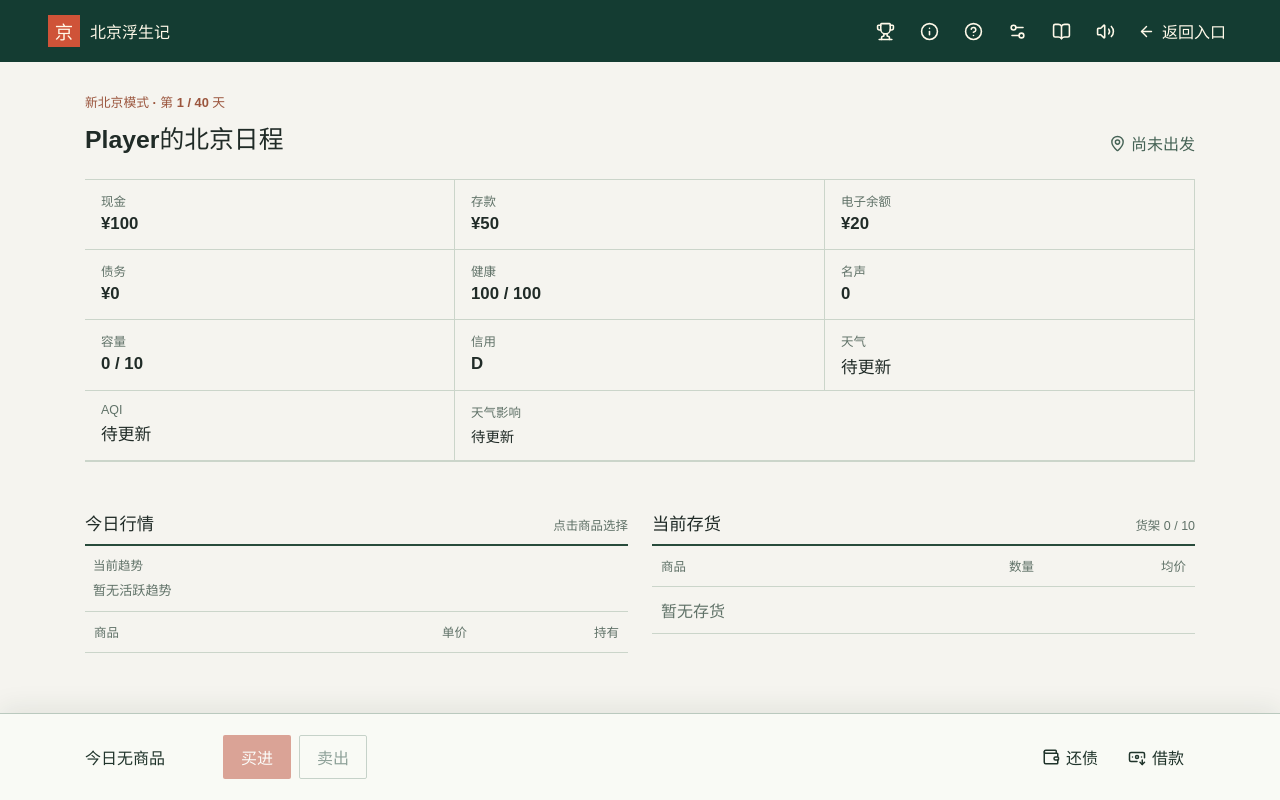
Test case: uses the content pack to classify market events without keyword matches
This screenshot has width=1280, height=800.
Click the button named "旅程日记".
click(1062, 31)  # box [1044,13,1080,49]
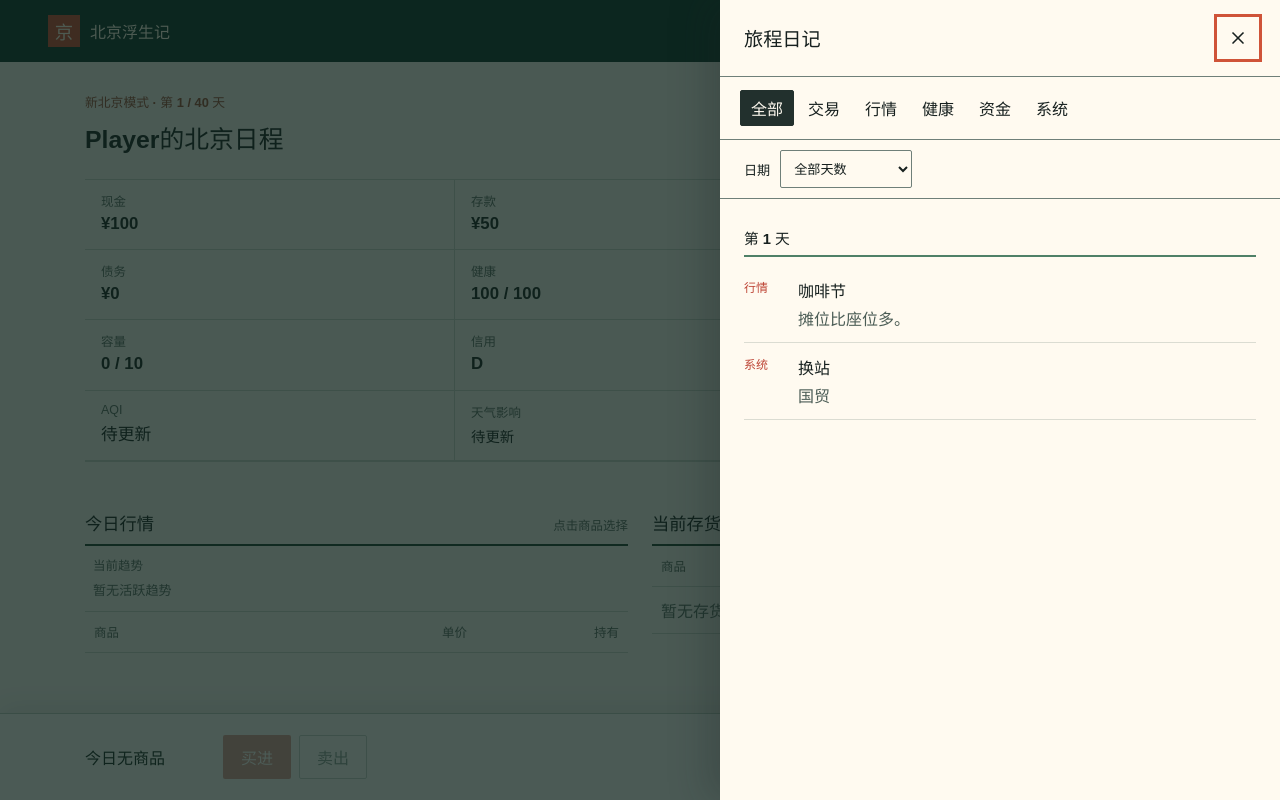
Click the button "行情".
click(881, 108)  # box [854,90,908,126]
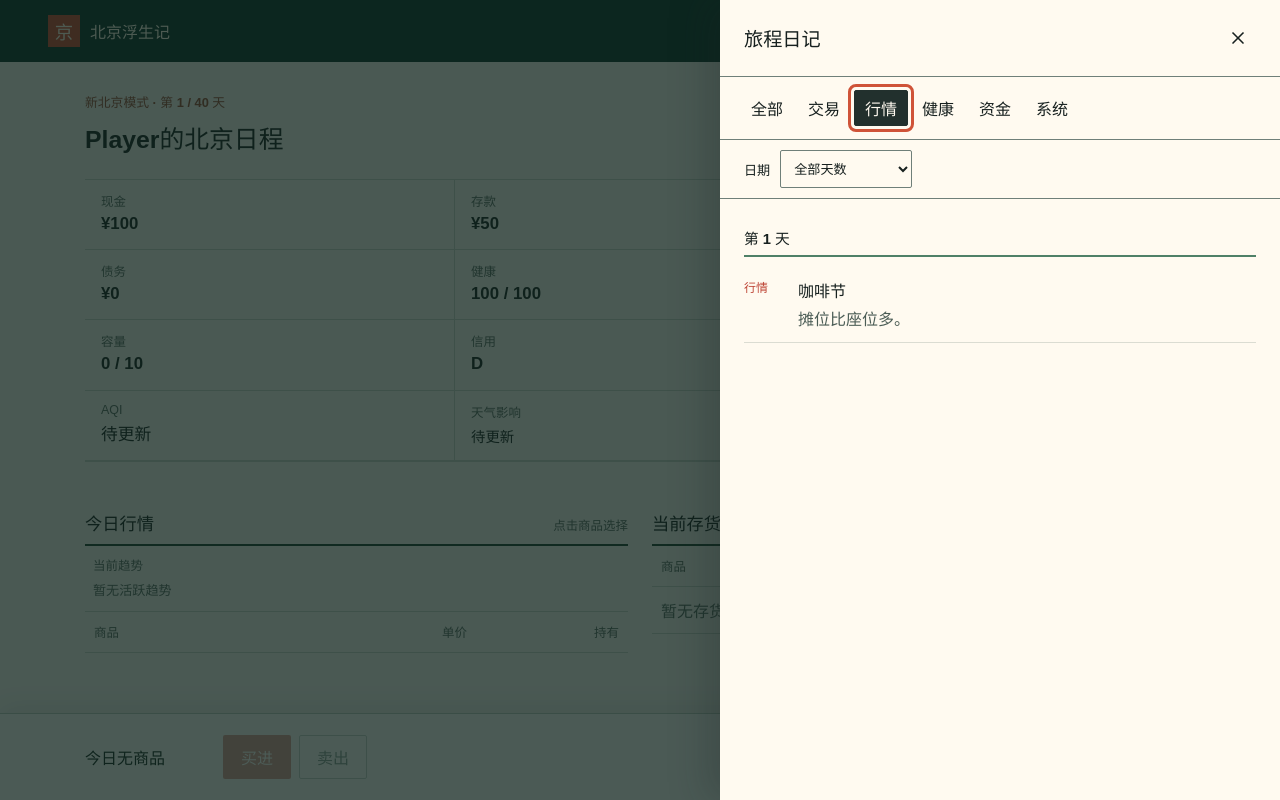
Check: the dialog "旅程日记" shows "咖啡节", box [798,283,846,300]
Check: the dialog "旅程日记" no longer shows "换站", box [720,0,1279,799]
